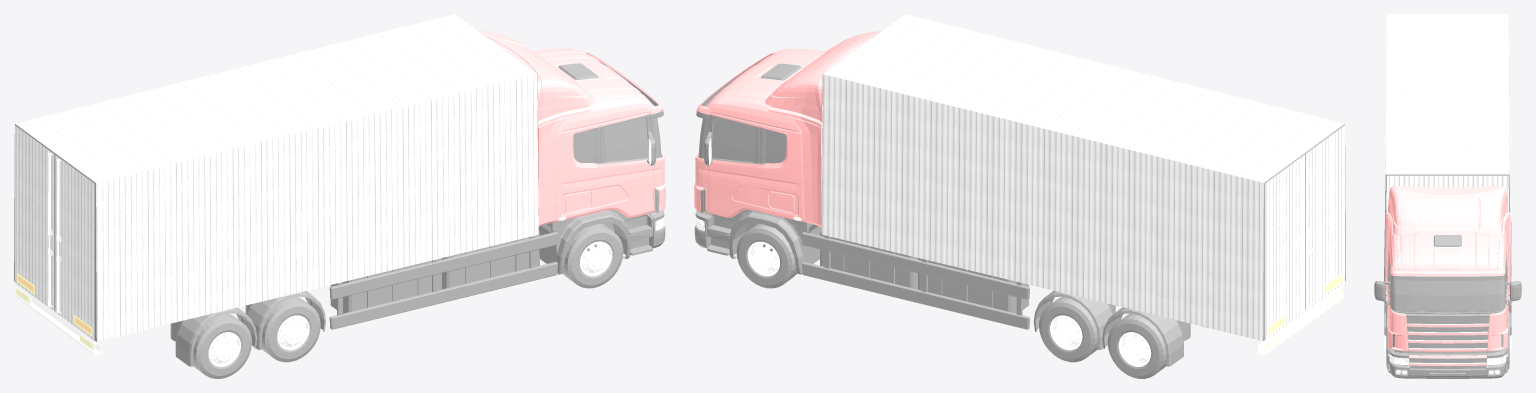
Rendered from Truck.glb.
The picture shows the model from 3 angles, left to right: view 1: azimuth 30°, elevation 25°; view 2: azimuth 150°, elevation 25°; view 3: azimuth 270°, elevation 25°; orthographic projection. The views are drawn at different scales.
Visible parts, largest first — view 1: Kache_05, Kache_07, Kache_08, Kache_01, Kache_02, Kache_04; view 2: Kache_05, Kache_07, Kache_08, Kache_01, Kache_02, Kache_04; view 3: Kache_05, Kache_08, Kache_07, Kache_02, Kache_06, Kache_04, Kache_01.
Boxes of the visible parts, <box> form: Kache_05: <box>14,14,538,341</box>; Kache_07: <box>14,61,665,366</box>; Kache_08: <box>478,30,665,226</box>; Kache_01: <box>193,223,623,378</box>; Kache_02: <box>16,117,661,349</box>; Kache_04: <box>15,151,662,354</box>; Kache_05: <box>821,14,1345,341</box>; Kache_07: <box>694,62,1345,366</box>; Kache_08: <box>694,31,881,226</box>; Kache_01: <box>736,223,1204,378</box>; Kache_02: <box>698,117,1342,350</box>; Kache_04: <box>697,151,1344,355</box>; Kache_05: <box>1384,14,1511,294</box>; Kache_08: <box>1385,185,1510,366</box>; Kache_07: <box>1374,174,1521,378</box>; Kache_02: <box>1389,259,1506,312</box>; Kache_06: <box>1387,353,1508,374</box>; Kache_04: <box>1384,135,1511,374</box>; Kache_01: <box>1384,202,1511,370</box>.
Bounding box in the file's own units: 8.24 × 3.09 × 2.4.
Materials: 10 (1 with a texture image).
